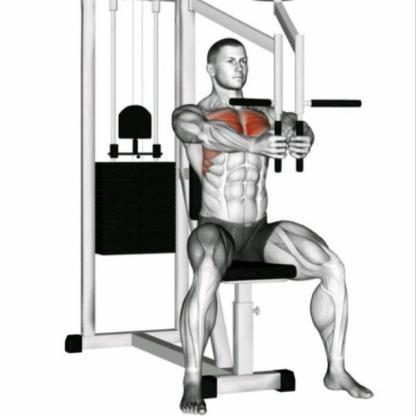chest fly machine: (61, 0, 378, 416)
